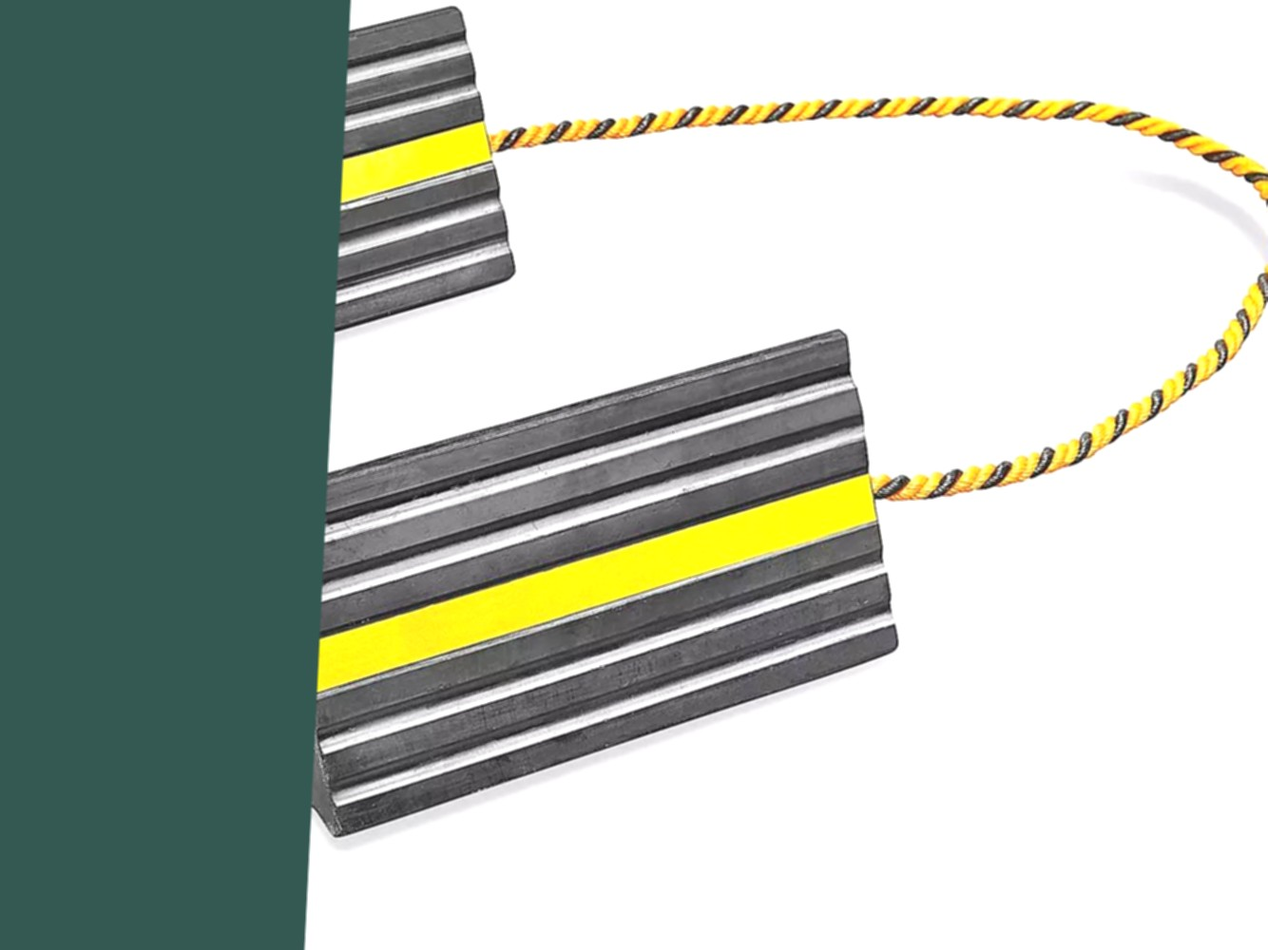chock: (174, 295, 916, 872), (0, 0, 533, 448)
